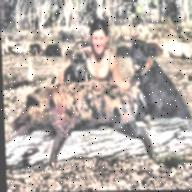boar: (8, 78, 159, 169)
